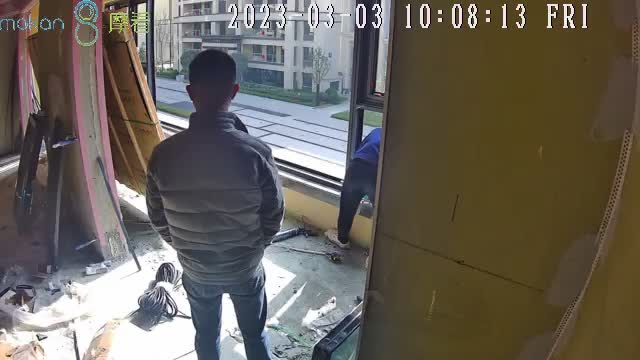people: (145, 48, 287, 360)
window: (105, 2, 387, 193)
